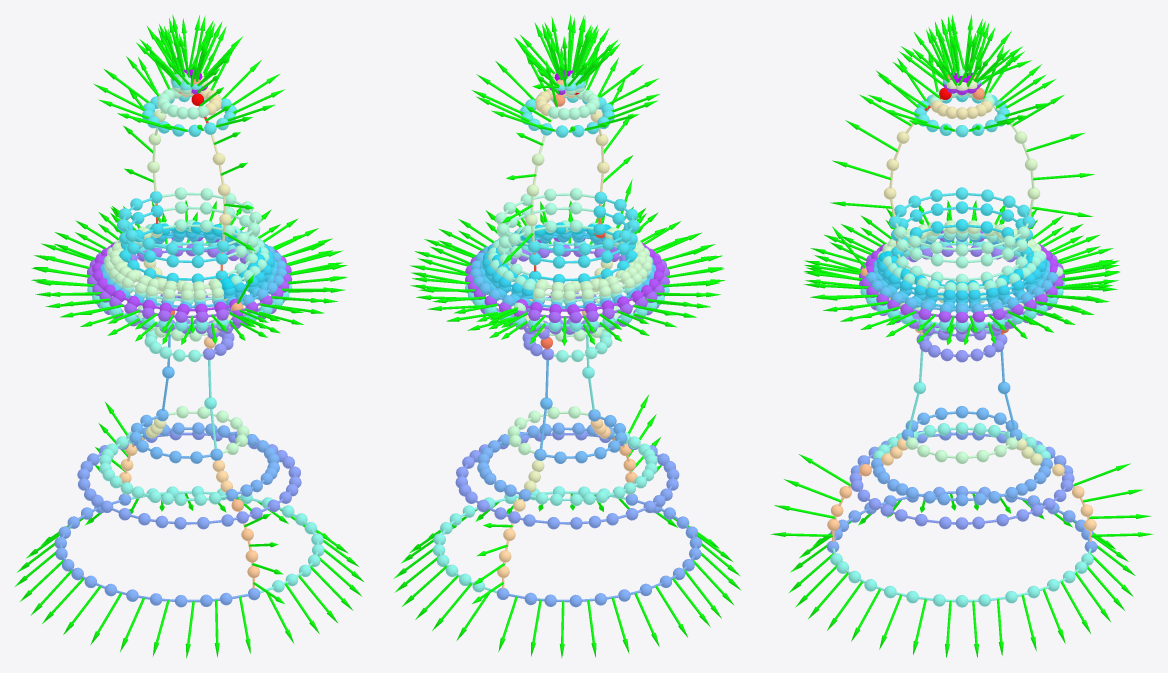
The model's file is onshape_bishop.gltf.
3 renders of one model, left to right at view 1: azimuth 30°, elevation 25°; view 2: azimuth 150°, elevation 25°; view 3: azimuth 270°, elevation 25°, orthographic.
Size of the model in its own units: 0.5529 by 0.9784 by 0.6069.
